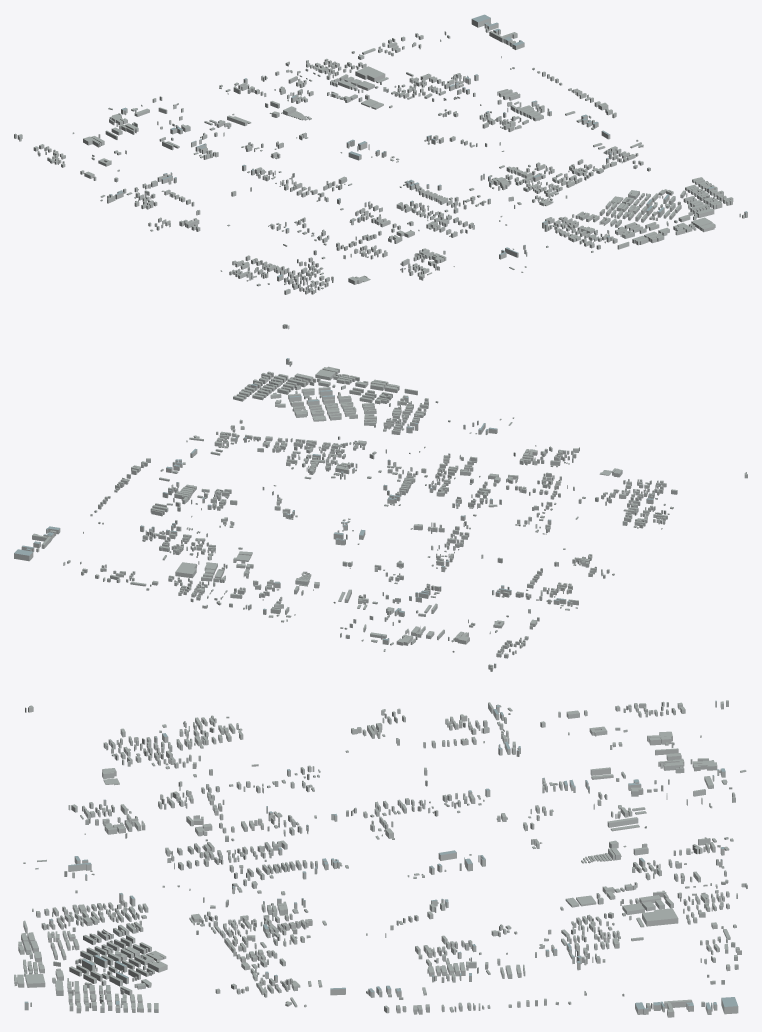
3 views of the same model, one above another, from view 1: azimuth 30°, elevation 25°; view 2: azimuth 150°, elevation 25°; view 3: azimuth 270°, elevation 25° (orthographic). The views are drawn at different scales.
Visible parts, largest first — view 1: 上海全域建筑分块 · mapped building neighborhood; view 2: 上海全域建筑分块 · mapped building neighborhood; view 3: 上海全域建筑分块 · mapped building neighborhood.
Part boxes in pixels (bbox=[...]): 上海全域建筑分块 · mapped building neighborhood: bbox=[14, 14, 747, 329]; 上海全域建筑分块 · mapped building neighborhood: bbox=[14, 358, 747, 671]; 上海全域建筑分块 · mapped building neighborhood: bbox=[14, 700, 747, 1017].
Size of the model in its own units: 2133 by 29.48 by 2120.
